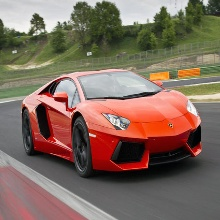no damage: (21, 68, 204, 178)
